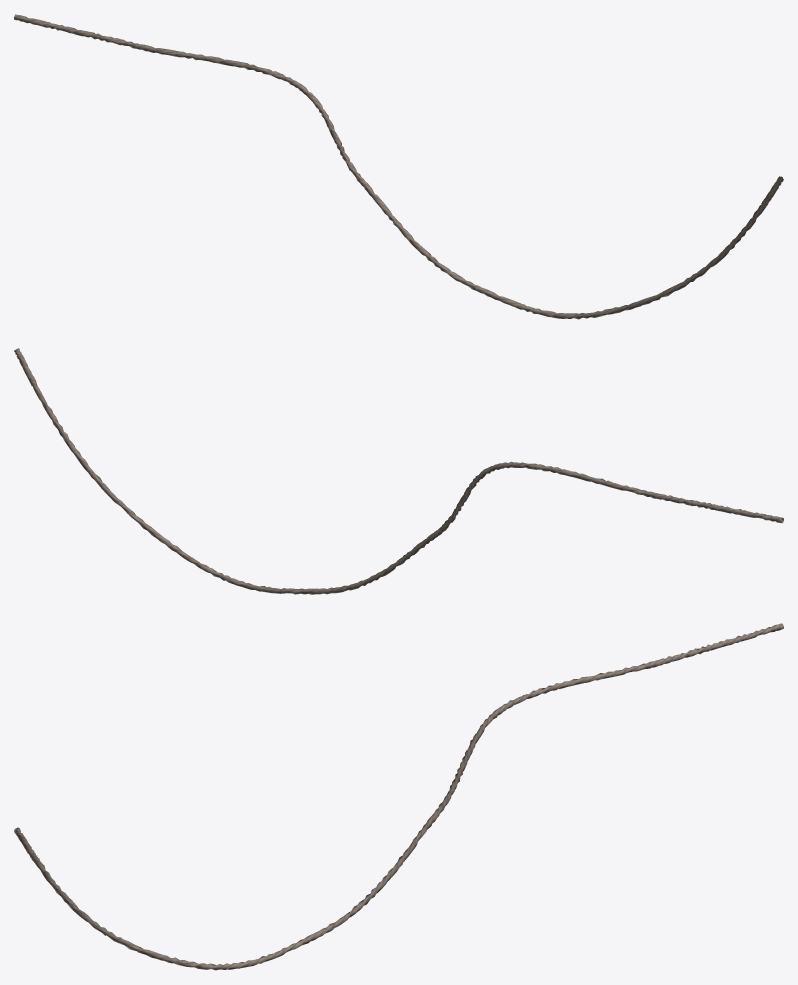
File: SM_RopeSplineMesh_Splines_12.fbx
3 views of the same model, one above another, from view 1: azimuth 30°, elevation 25°; view 2: azimuth 210°, elevation 25°; view 3: azimuth 270°, elevation 25° (orthographic). The views are drawn at different scales.
Visible parts, largest first — view 1: SM_RopeSplineMesh_Splines_12; view 2: SM_RopeSplineMesh_Splines_12; view 3: SM_RopeSplineMesh_Splines_12.
Boxes of the visible parts, x1=… form: SM_RopeSplineMesh_Splines_12: x1=14, y1=14, x2=783, y2=319; SM_RopeSplineMesh_Splines_12: x1=14, y1=348, x2=783, y2=594; SM_RopeSplineMesh_Splines_12: x1=14, y1=623, x2=783, y2=970.
Size of the model in its own units: 185 by 286 by 82.38.
